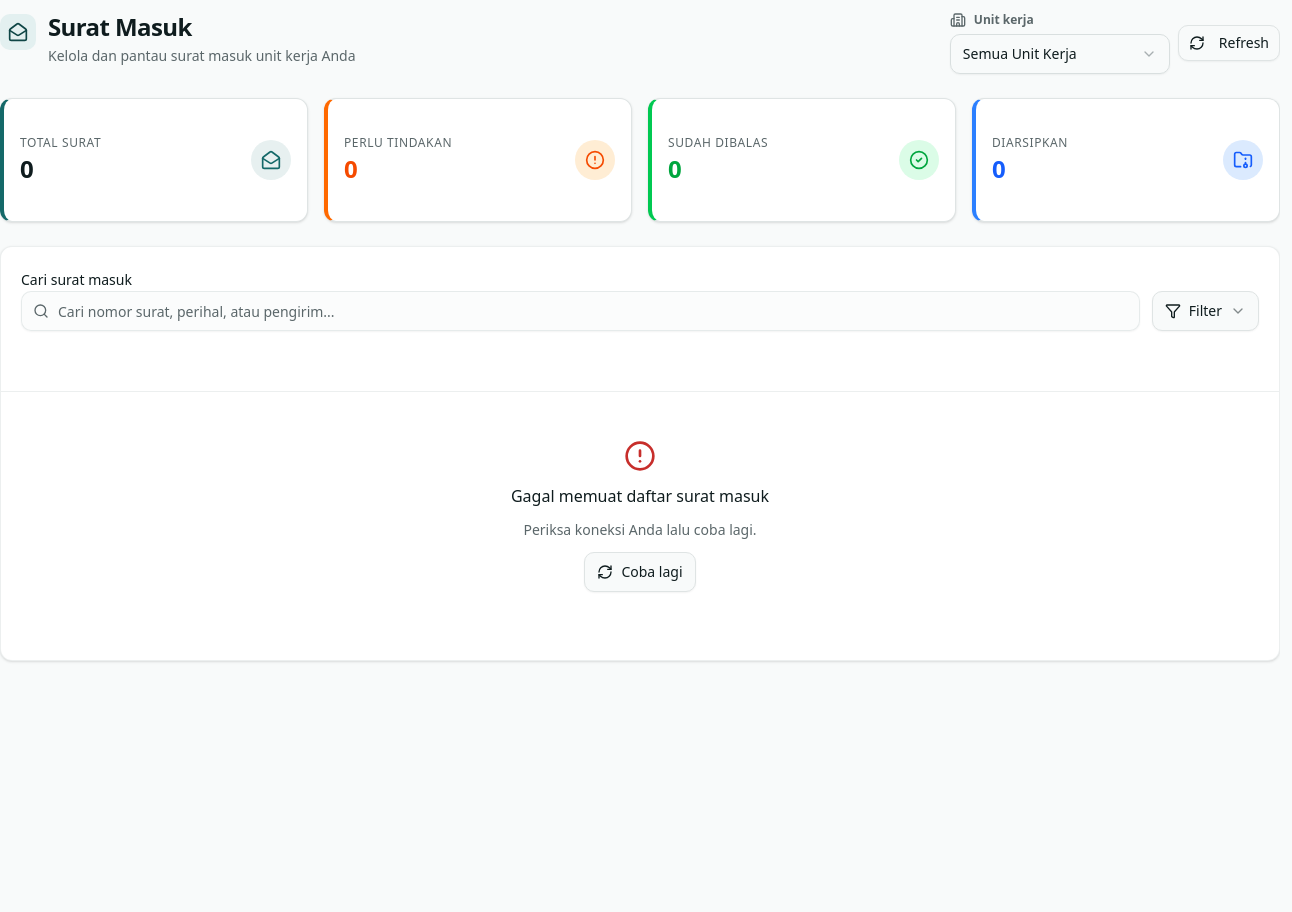
Test: persistent masuk list feedback › keeps a failure visible instead of an empty list and recovers with retry
The image size is (1292, 912).
Expected: the message shows "Gagal memuat daftar surat masuk", [511,485,769,507]
Click the button "Coba lagi".
click(640, 572)  # box [584,552,696,592]
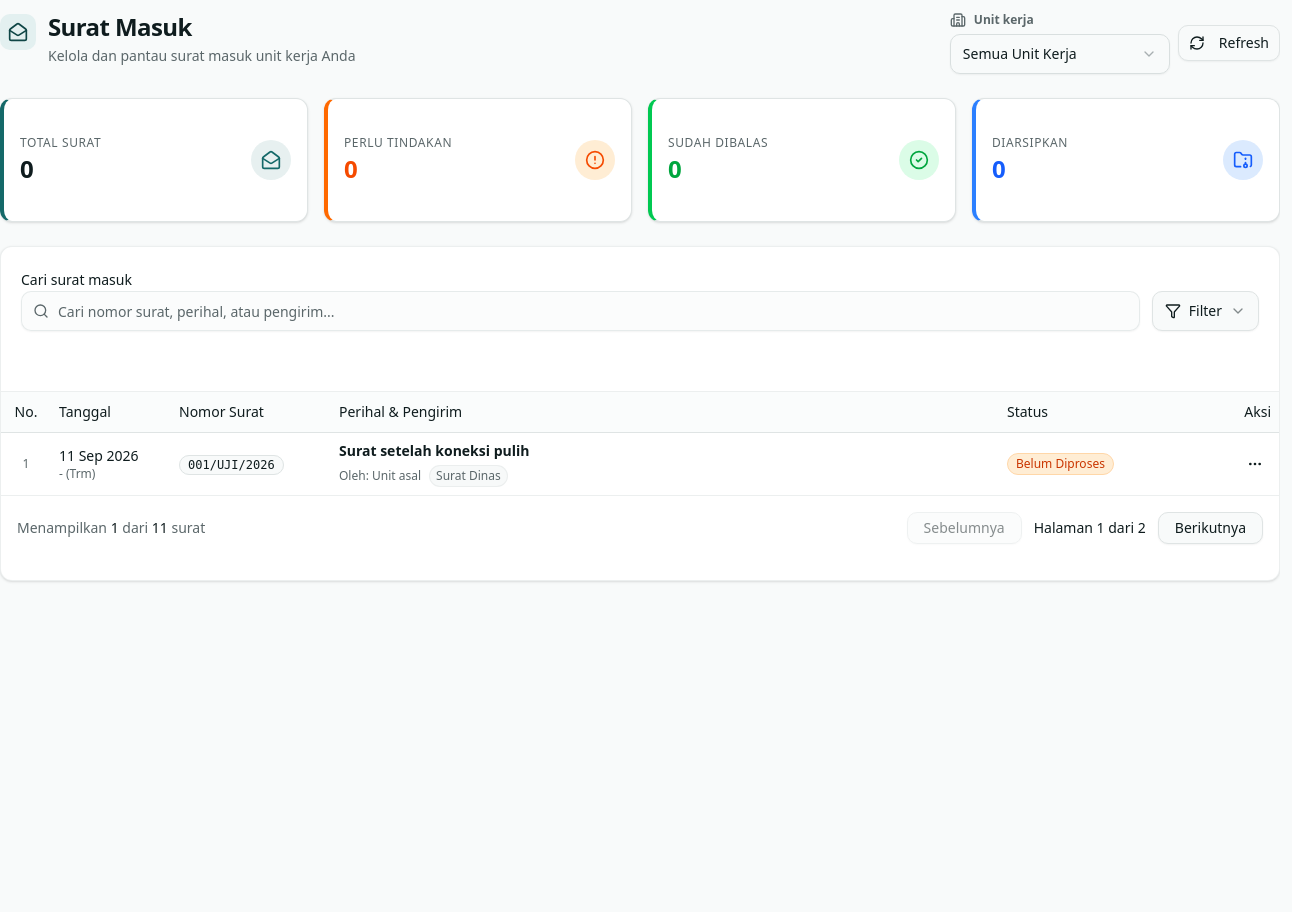
Expected: the text "Surat setelah koneksi pulih" is shown, [339,440,530,460]
Expected: the message "Gagal memuat daftar surat masuk Periksa koneksi Anda lalu coba lagi. Coba lagi" is gone
